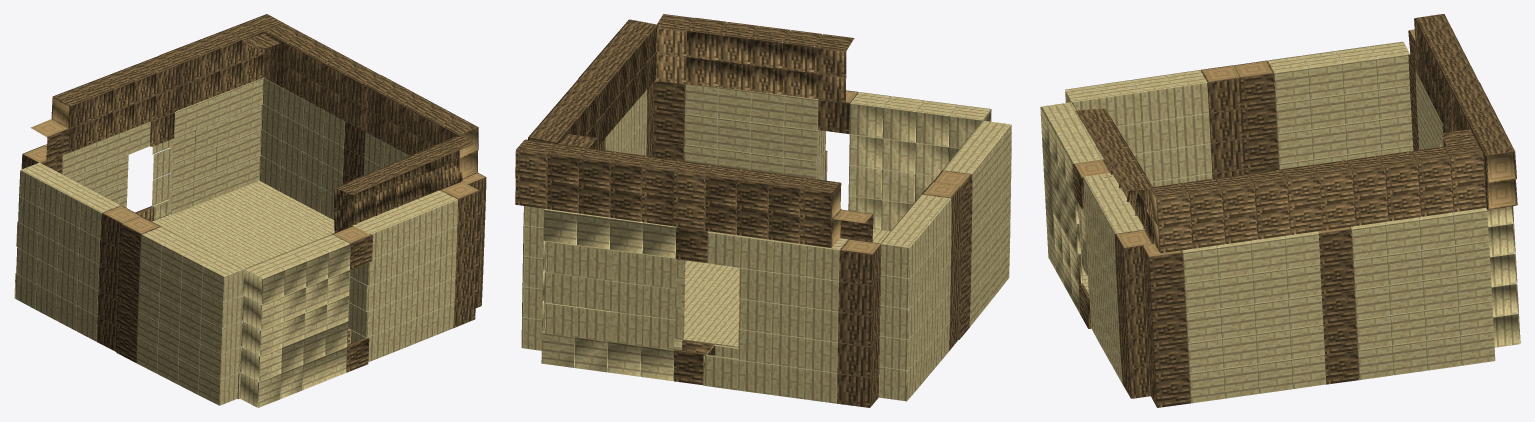
Rendered from house.obj.
3 views of the same model, side by side, from view 1: azimuth 30°, elevation 25°; view 2: azimuth 150°, elevation 25°; view 3: azimuth 270°, elevation 25° (orthographic). The views are drawn at different scales.
Visible parts, largest first — view 1: piso_de_madera_trabajada; view 2: piso_de_madera_trabajada; view 3: piso_de_madera_trabajada.
Boxes of the visible parts, x1=… form: piso_de_madera_trabajada: x1=14, y1=14, x2=486, y2=407; piso_de_madera_trabajada: x1=515, y1=14, x2=1011, y2=407; piso_de_madera_trabajada: x1=1040, y1=14, x2=1520, y2=407.
Size of the model in its own units: 1.91 by 0.9936 by 1.92.
